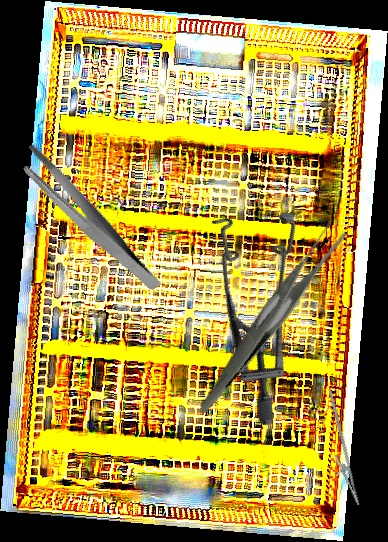Dressing Forceps: (155, 216, 384, 414), (15, 122, 162, 317)
Needle Holder: (305, 388, 375, 510)
Speculum: (137, 179, 370, 429)
